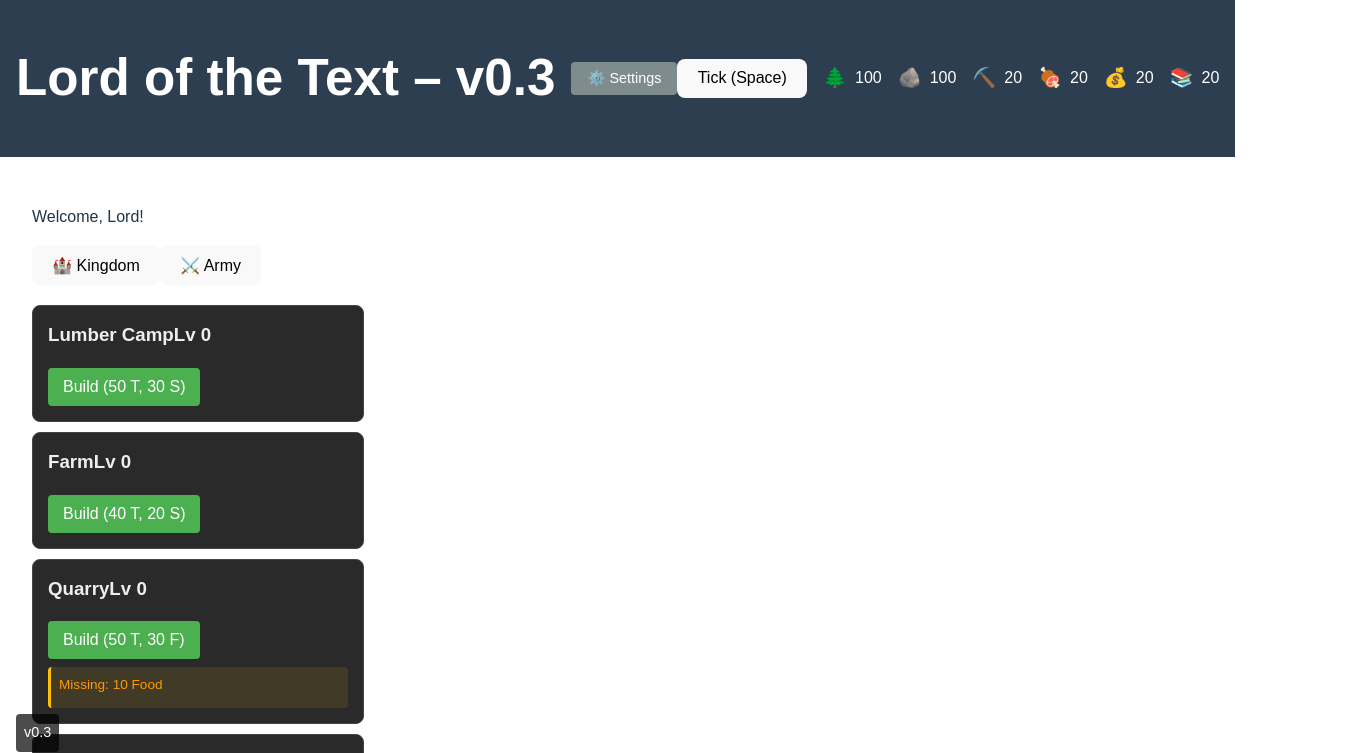
Test: Integration Tests - End-to-End User Flows › should show confirmation dialog when clicking hard reset button
The image size is (1366, 753).
Expected: the heading "Lord of the Text – v0.3" is shown, [16,50,556,107]
// Open settings and click hard reset
Click the button "⚙️ Settings" at (624, 78), box [572,62,678,95]
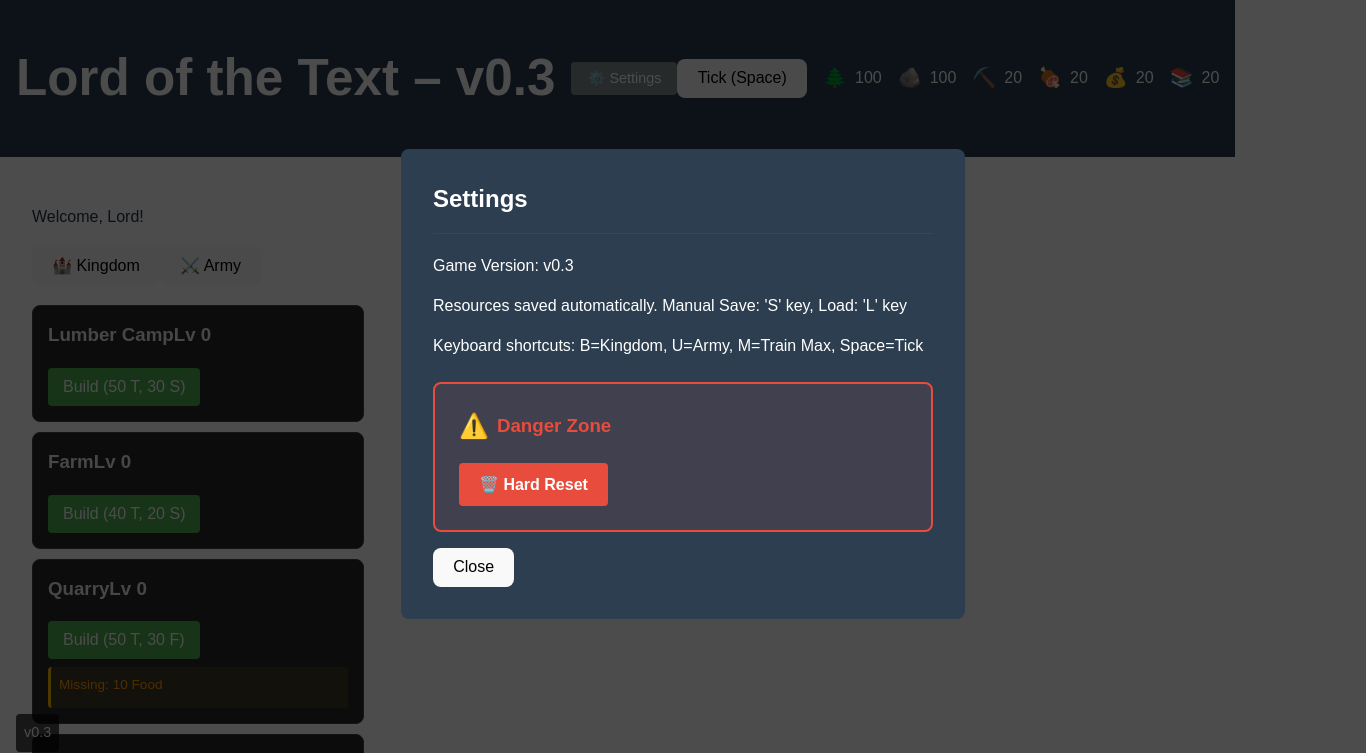
Click the button "🗑️ Hard Reset" at (533, 484), box [459,463,608,506]
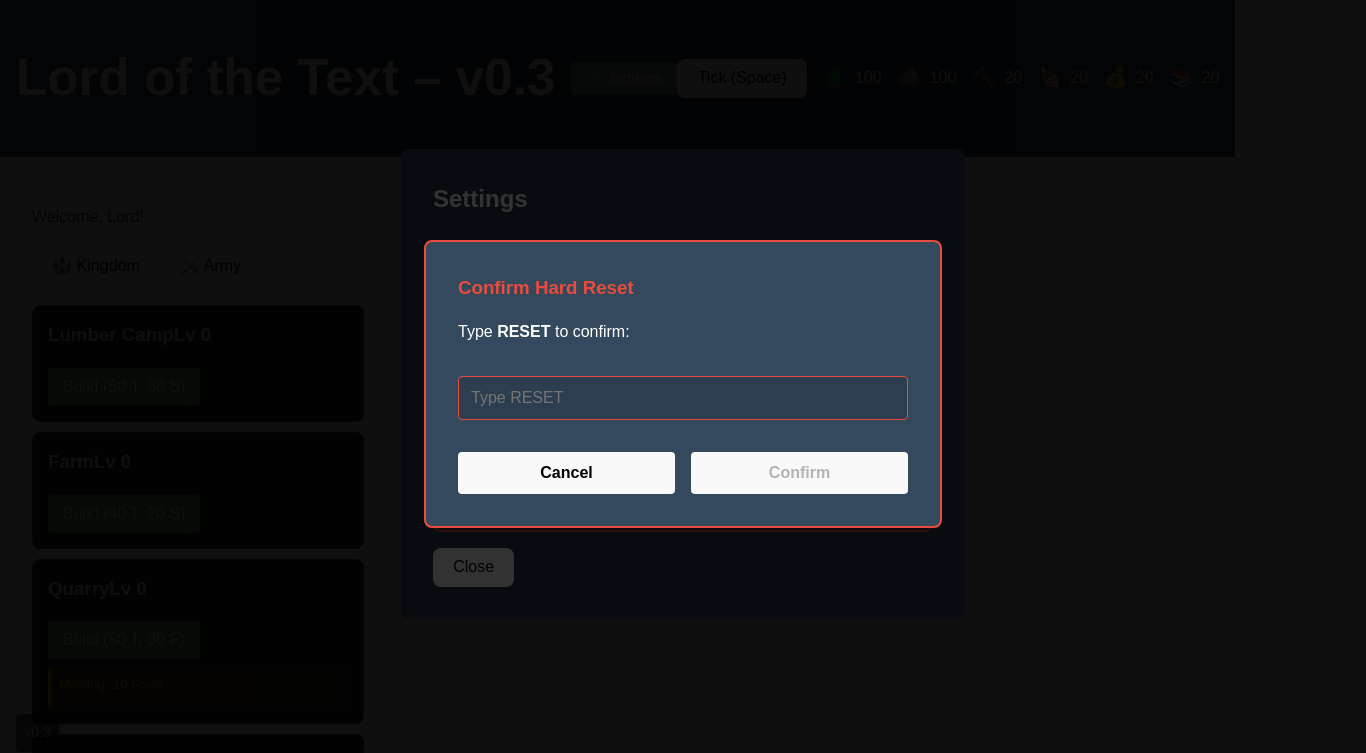
Expected: the heading "Confirm Hard Reset" is shown, [458,277,634,298]
